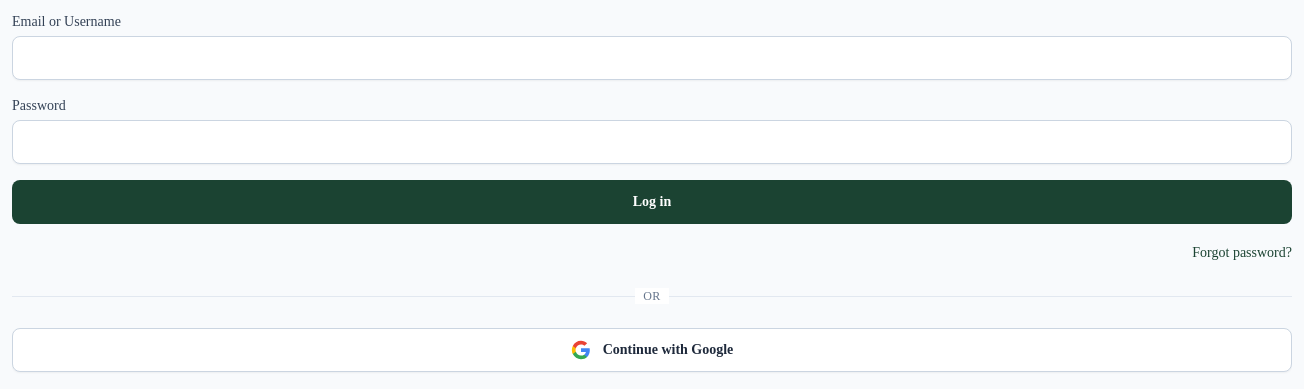
LoginForm › starts Google OAuth flow with the safe return path
Click the button "Continue with Google".
click(652, 350)  # box top-left (12, 328), bottom-right (1292, 372)
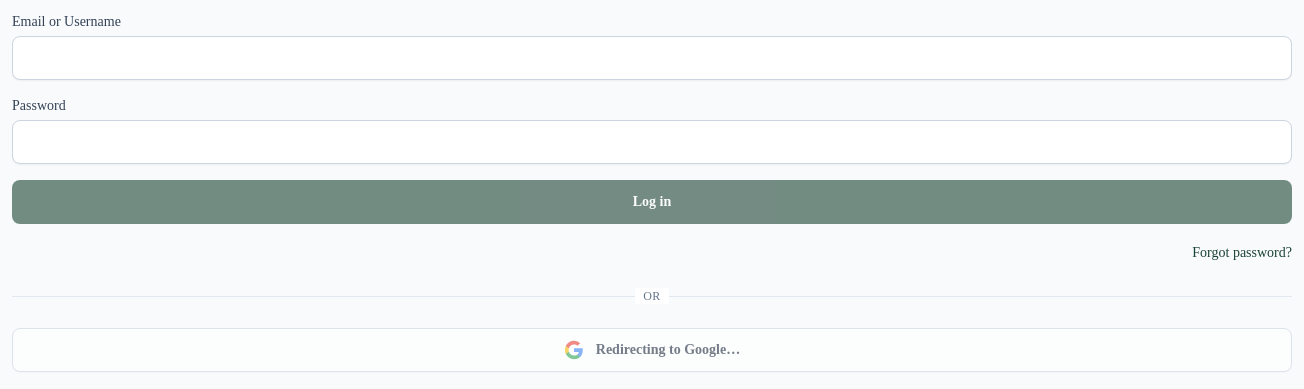
expect the button "Redirecting to Google…" is disabled: met, box top-left (12, 328), bottom-right (1292, 372)
